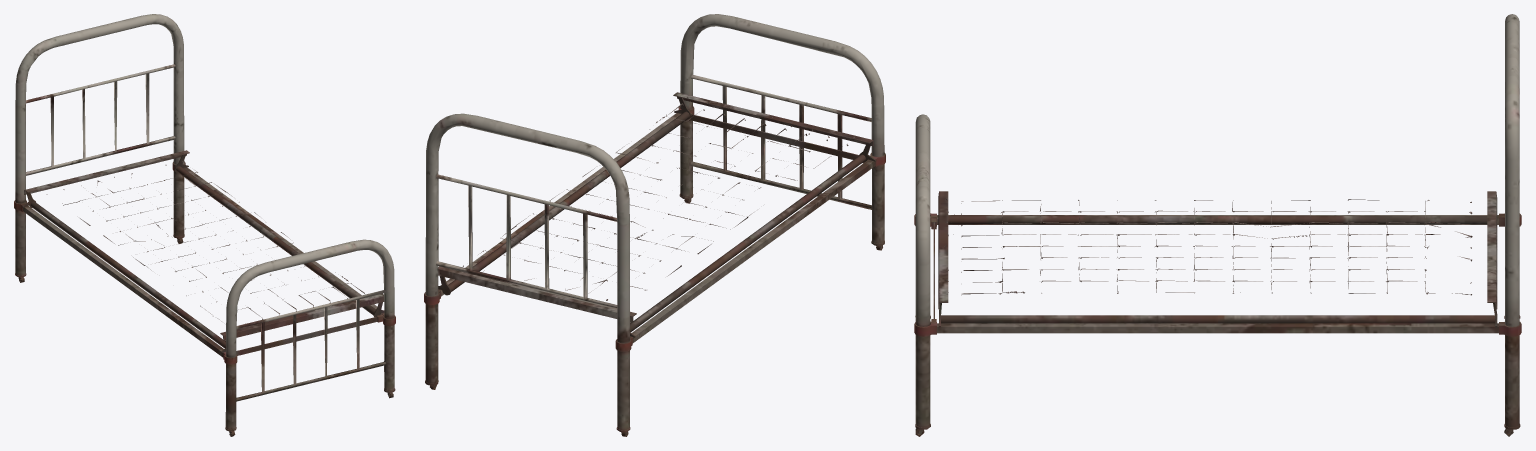
Rendered from cc0_hospital_bed.glb.
The picture shows the model from 3 angles, left to right: view 1: azimuth 30°, elevation 25°; view 2: azimuth 150°, elevation 25°; view 3: azimuth 270°, elevation 25°; orthographic projection. The views are drawn at different scales.
Parts seen in each view (by area): view 1: old_bed_frame; view 2: old_bed_frame; view 3: old_bed_frame.
Part boxes in pixels (x1,y1,x2,y2): old_bed_frame: [14, 14, 395, 436]; old_bed_frame: [424, 14, 885, 436]; old_bed_frame: [914, 14, 1521, 436].
Size of the model in its own units: 0.9046 by 1.2 by 2.
1 material, 1 textured.
